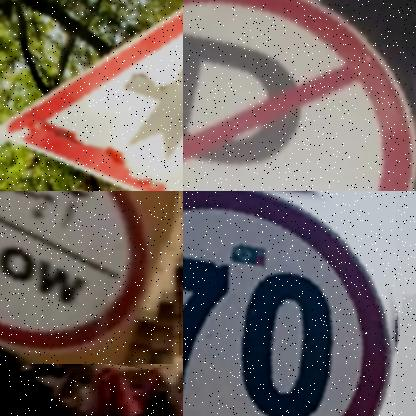Cross Roads: (0, 0, 183, 191)
No Parking: (183, 0, 416, 191)
Speed Limit -70 kmph-: (183, 191, 395, 416)
